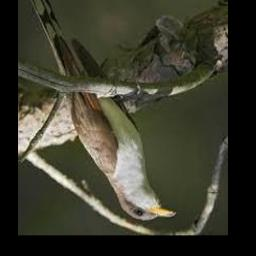Cuckoo: (26, 0, 176, 221)
